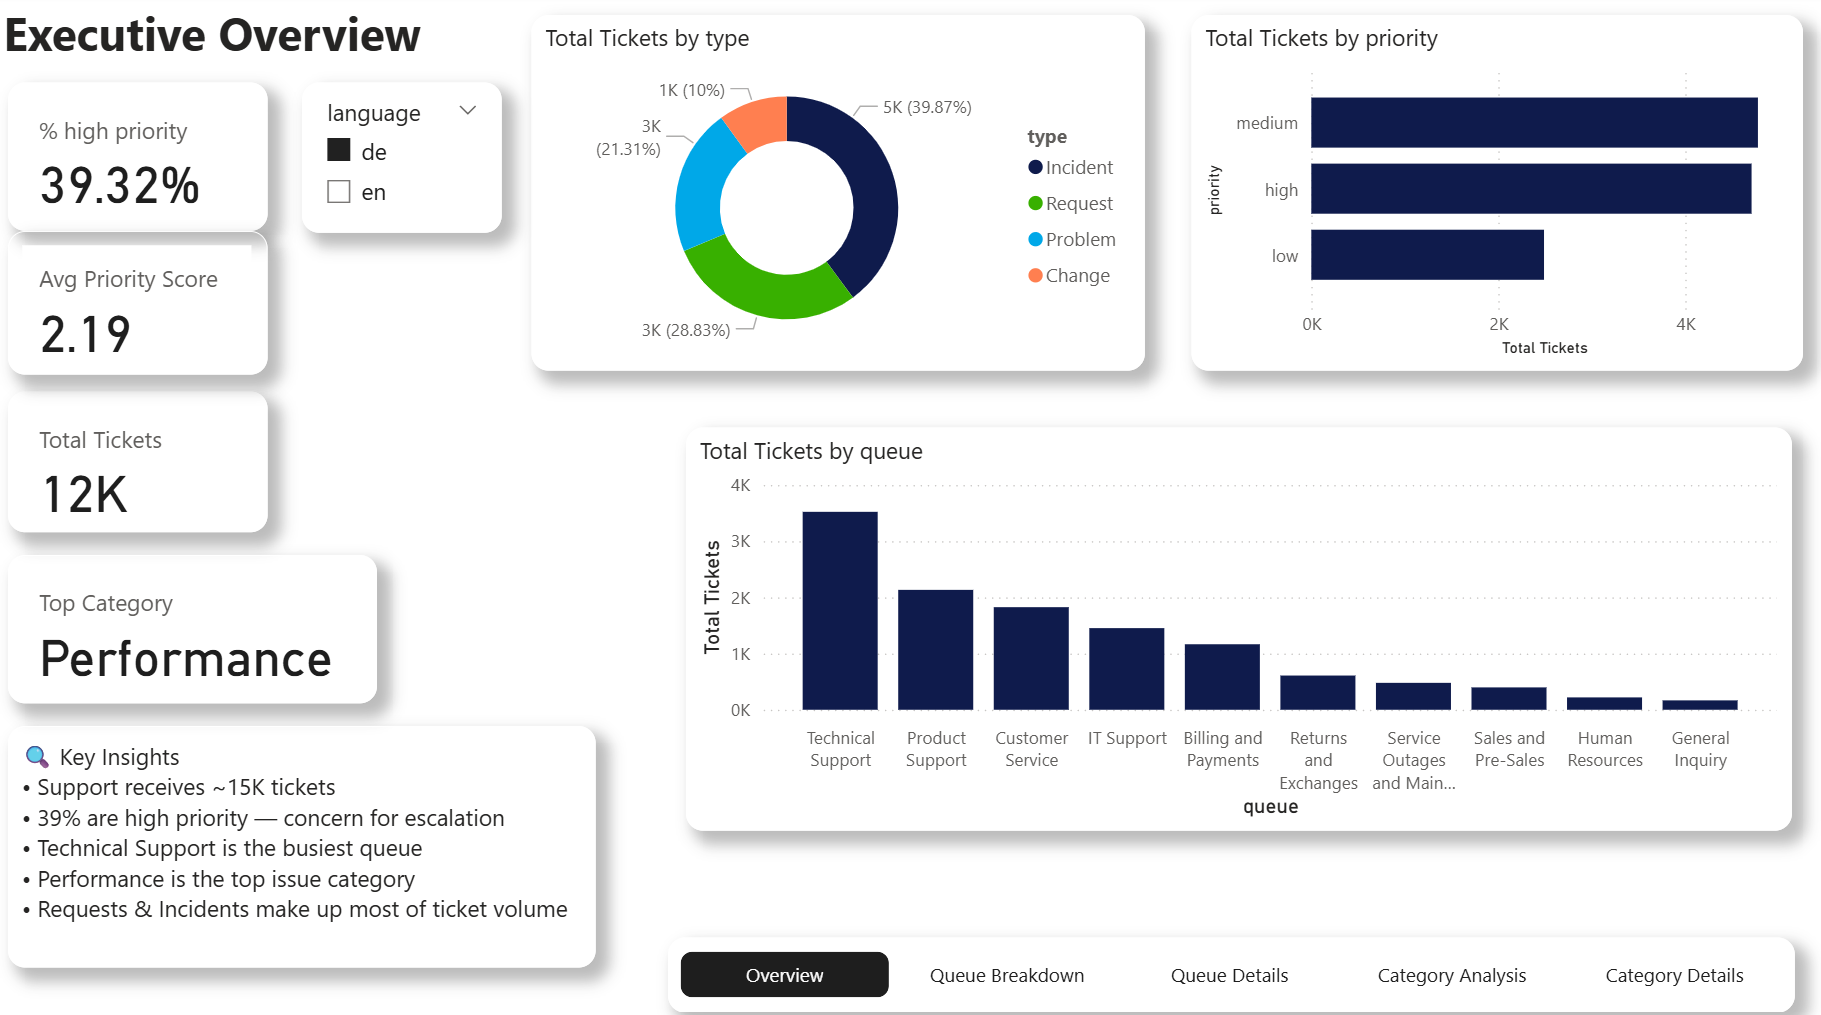

The dashboard page shown, as its layout file describes it:
{"tool":"powerbi","page":{"name":"Overview","canvas":[1280,720],"ordinal":0},"visuals":[{"type":"shape","box":[471,661,789.8,52.6],"z":0},{"type":"cardVisual","fields":{"Data":["Table.Total Tickets"]},"box":[8.4,278.7,181.9,98.9],"z":1000},{"type":"cardVisual","fields":{"Data":["Table.% high priority"]},"box":[8.4,62,181.9,104.1],"z":2000},{"type":"donutChart","fields":{"Y":["Table.Total Tickets"],"Category":["dataset.type"]},"box":[375.4,15.1,429.9,249.1],"z":3000},{"type":"clusteredBarChart","fields":{"Category":["dataset.priority"],"Y":["Table.Total Tickets"]},"box":[837.8,15.1,428.7,249.1],"z":4000},{"type":"clusteredColumnChart","fields":{"Category":["dataset.queue"],"Y":["Table.Total Tickets"]},"box":[483.7,303.9,775,282.9],"z":5000},{"type":"slicer","fields":{"Values":["dataset.language"]},"box":[214.5,62,139.9,105.2],"z":6000},{"type":"pageNavigator","box":[475.3,666.7,780.3,42.1],"z":7000},{"type":"cardVisual","fields":{"Data":["Table.Top Category"]},"box":[8.4,393.3,258.7,104.1],"z":8000},{"type":"cardVisual","fields":{"Data":["Table.Avg Priority Score"]},"box":[8.4,166.2,181.9,101],"z":9000},{"type":"textbox","box":[8.4,513.2,412.2,169.3],"z":10000},{"type":"textbox","box":[0,0,363.8,62.6],"z":11000}]}

Visuals, with their boxes in screenshot pixels (x1, y1, x2, y2), scaled from the page's 1280x720 canvas onto the 1821x1015 screenshot:
shape: bbox=(670, 932, 1794, 1006)
cardVisual - Table.Total Tickets: bbox=(12, 393, 271, 532)
cardVisual - Table.% high priority: bbox=(12, 87, 271, 234)
donutChart - Table.Total Tickets x dataset.type: bbox=(534, 21, 1146, 372)
clusteredBarChart - dataset.priority x Table.Total Tickets: bbox=(1192, 21, 1802, 372)
clusteredColumnChart - dataset.queue x Table.Total Tickets: bbox=(688, 428, 1791, 827)
slicer - dataset.language: bbox=(305, 87, 504, 236)
pageNavigator: bbox=(676, 940, 1786, 999)
cardVisual - Table.Top Category: bbox=(12, 554, 380, 701)
cardVisual - Table.Avg Priority Score: bbox=(12, 234, 271, 377)
textbox: bbox=(12, 723, 598, 962)
textbox: bbox=(0, 0, 518, 88)
